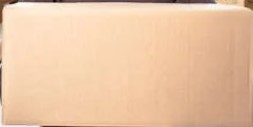stock: (2, 3, 253, 126)
